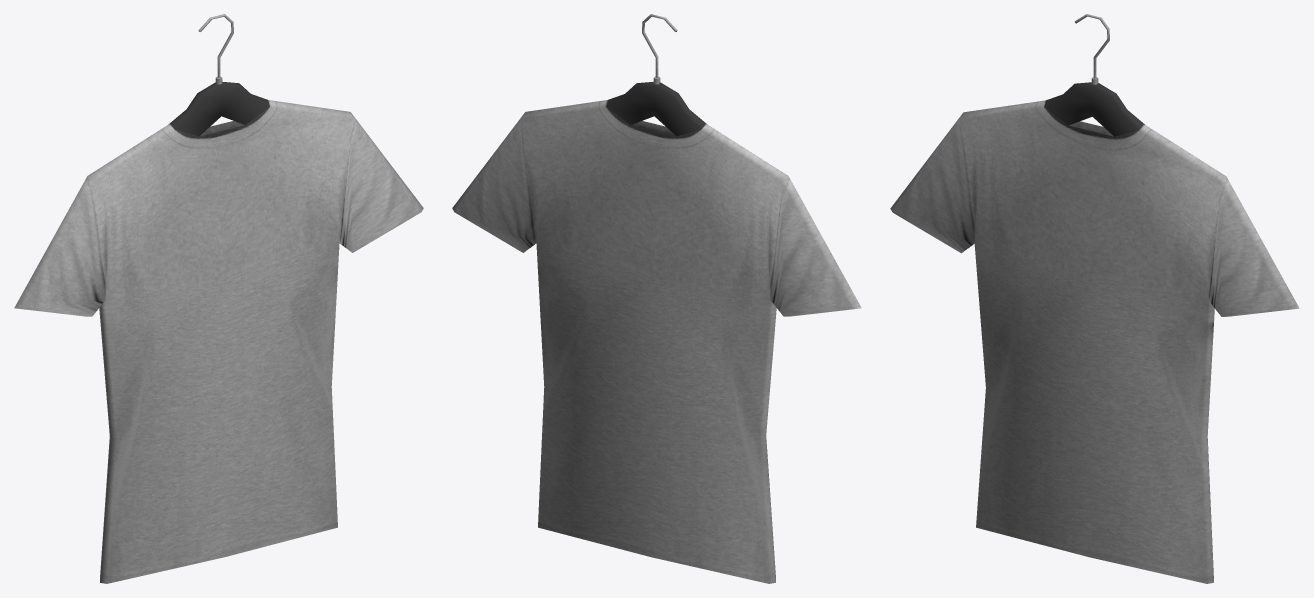
File: Product_TShirt02.FBX
The picture shows the model from 3 angles, left to right: view 1: azimuth 30°, elevation 25°; view 2: azimuth 150°, elevation 25°; view 3: azimuth 330°, elevation 25°; orthographic projection.
Parts seen in each view (by area): view 1: Product_TShirt02_LOD_00; view 2: Product_TShirt02_LOD_00; view 3: Product_TShirt02_LOD_00.
Part boxes in pixels (left/top/right/bottom): Product_TShirt02_LOD_00: left=14, top=14, right=423, bottom=583; Product_TShirt02_LOD_00: left=452, top=14, right=861, bottom=583; Product_TShirt02_LOD_00: left=890, top=14, right=1299, bottom=583.
Bounding box in the file's own units: 0.6575 × 0.8249 × 0.0309.
